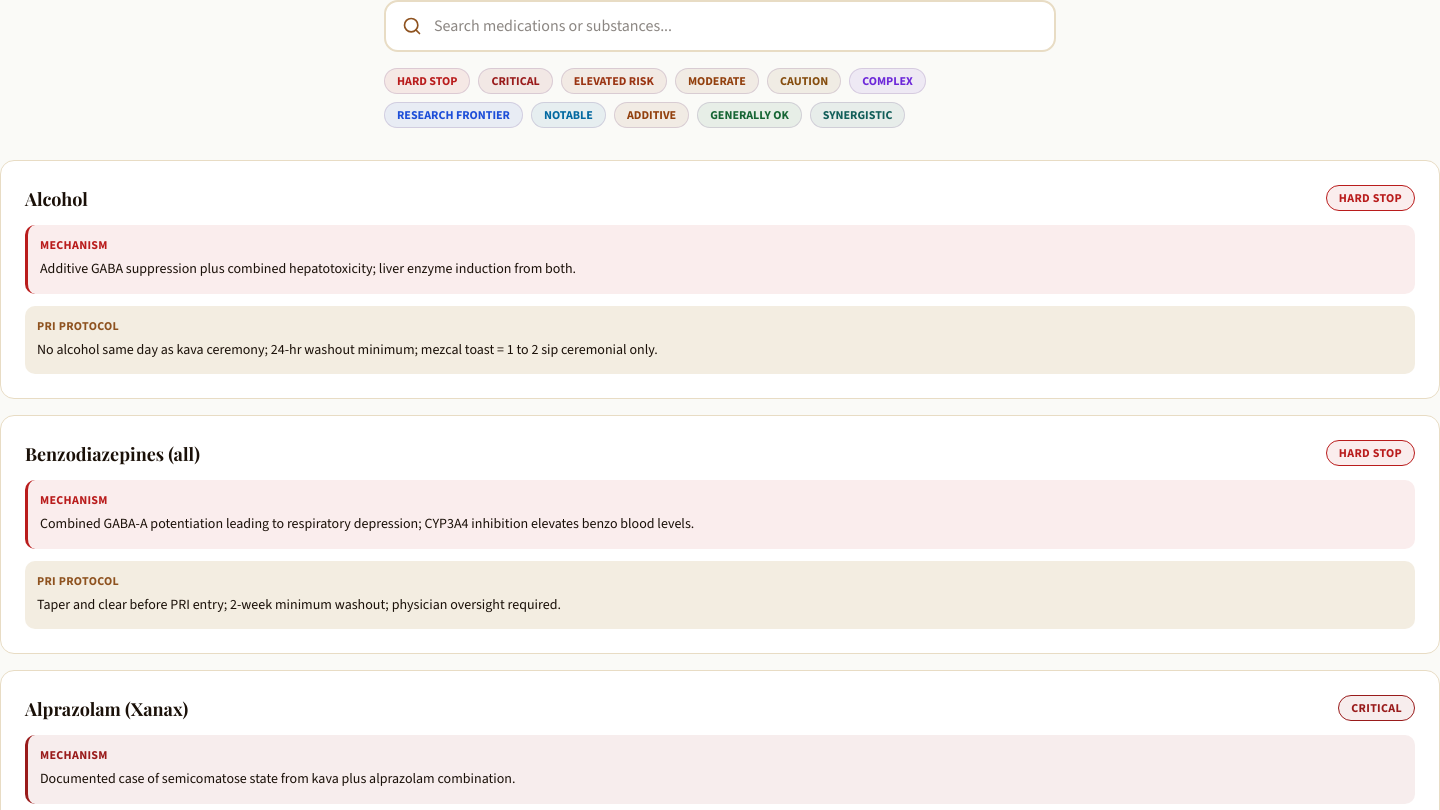
InteractionsExplorer › no banner for a safe match, and an empty-state message for no match
Type "theanine" into the field with placeholder "Search medications or substances..." at [736, 26], box [434,14,1038,38]
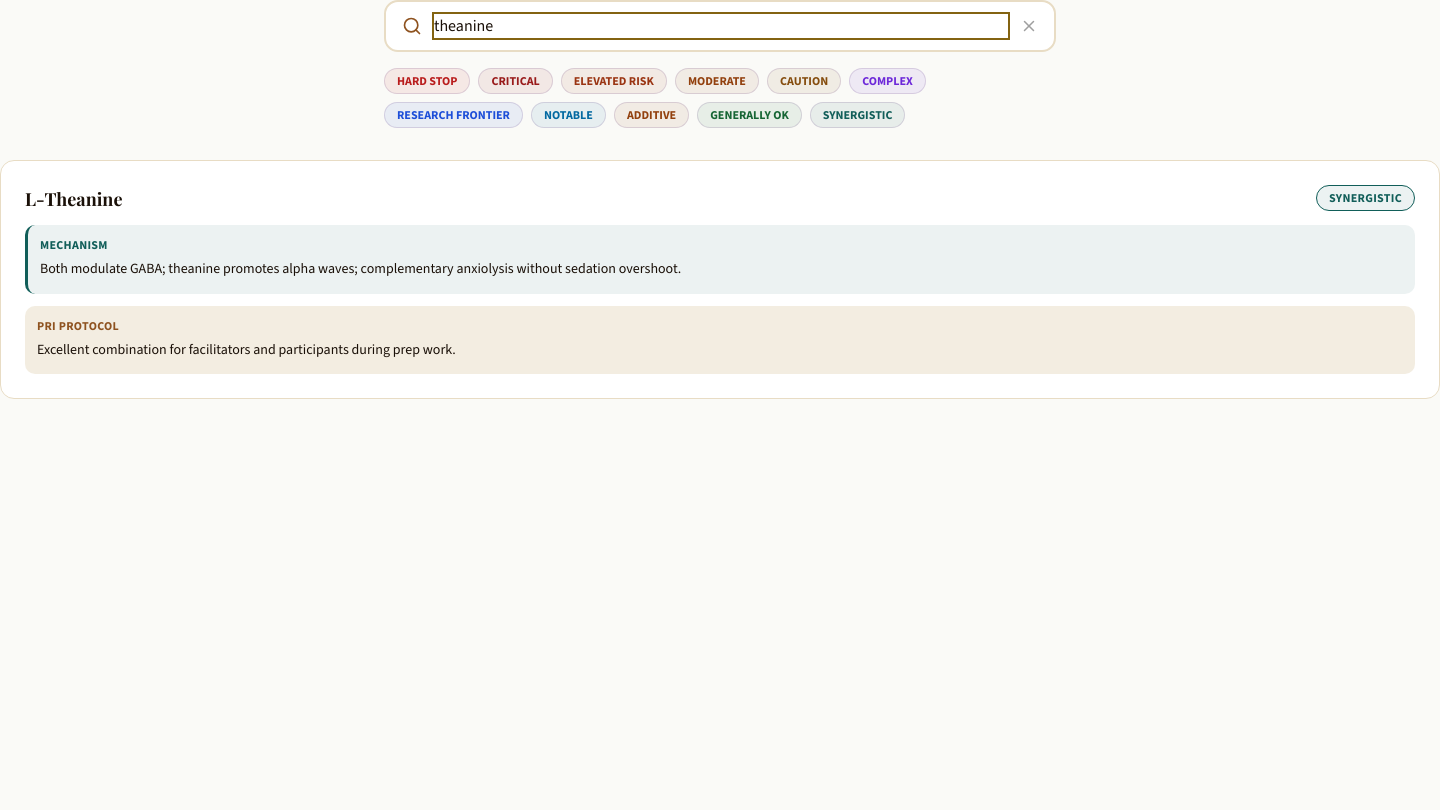
Clear the field with placeholder "Search medications or substances..." at [721, 26], box [434,14,1008,38]
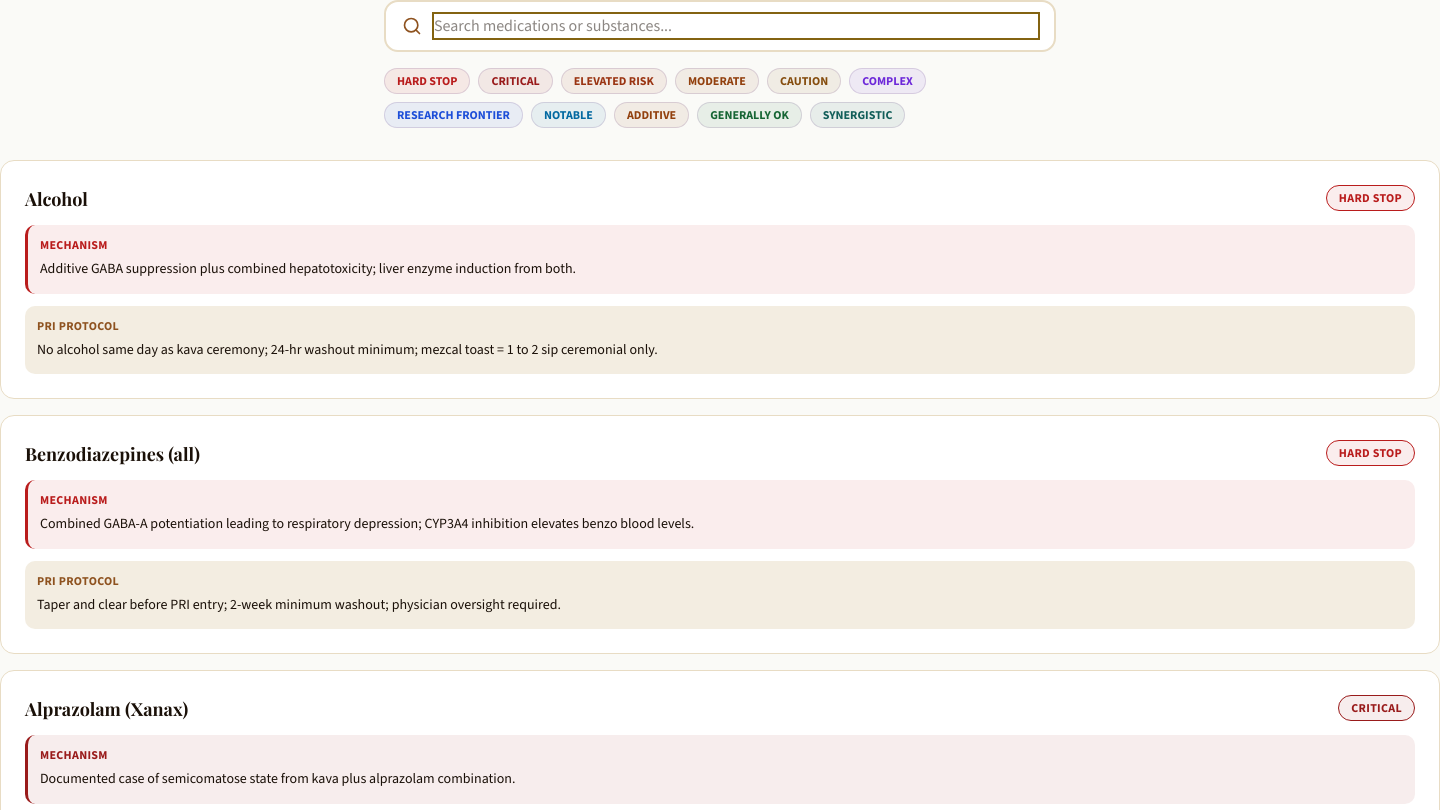
Type "zzzz" into the field with placeholder "Search medications or substances..." at [736, 26], box [434,14,1038,38]
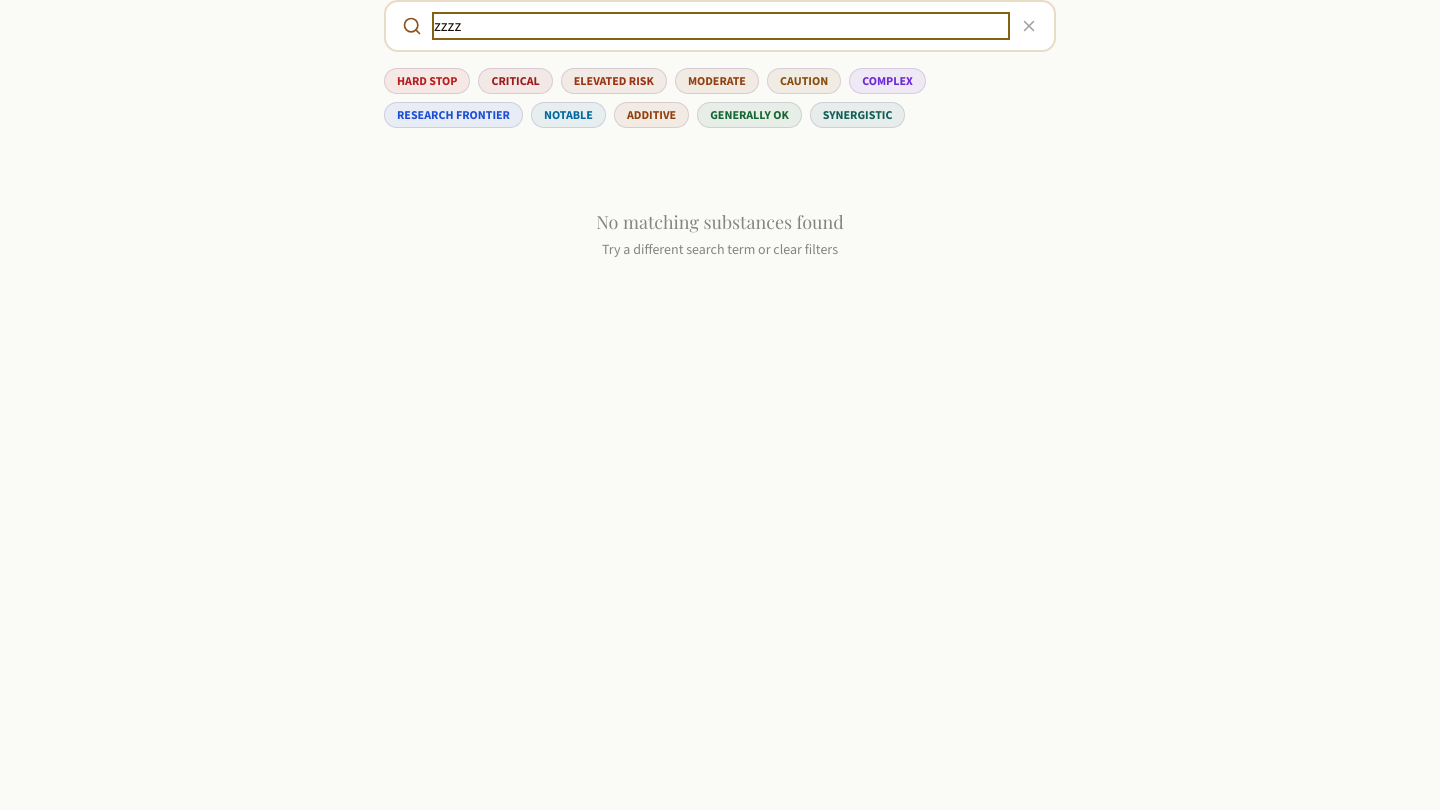
Expected: the text "No matching substances found" is shown, [596,210,844,234]
